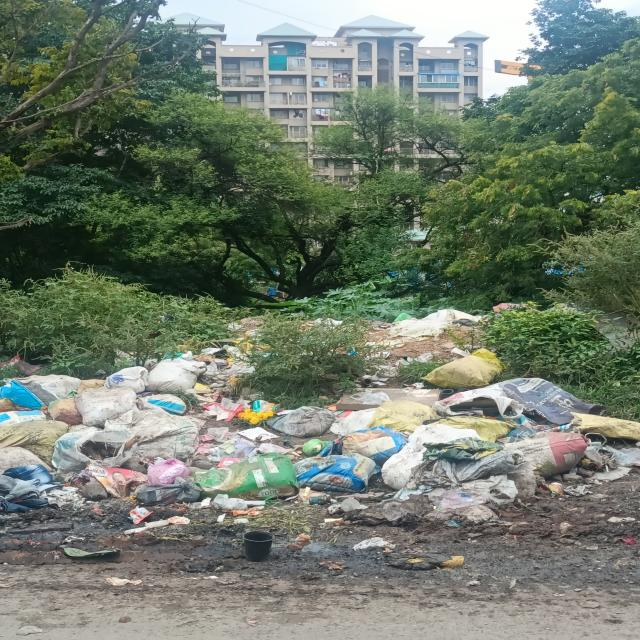garbage: (191, 312, 623, 528), (9, 370, 221, 533)
